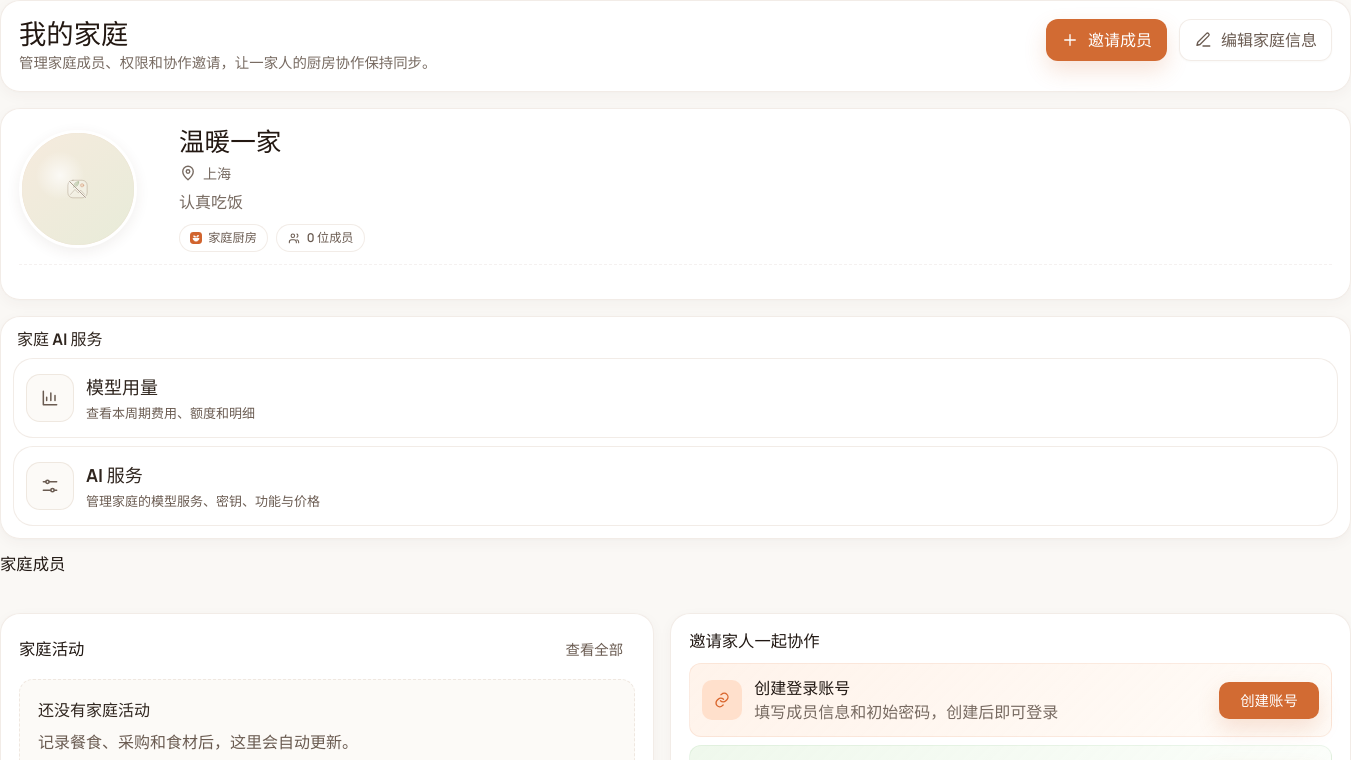
it: FamilySettings activity overlay control › opens activity overlay through controlled overlayMode on desktop
Click the button "查看全部" at (594, 650), box [554,632,635,668]
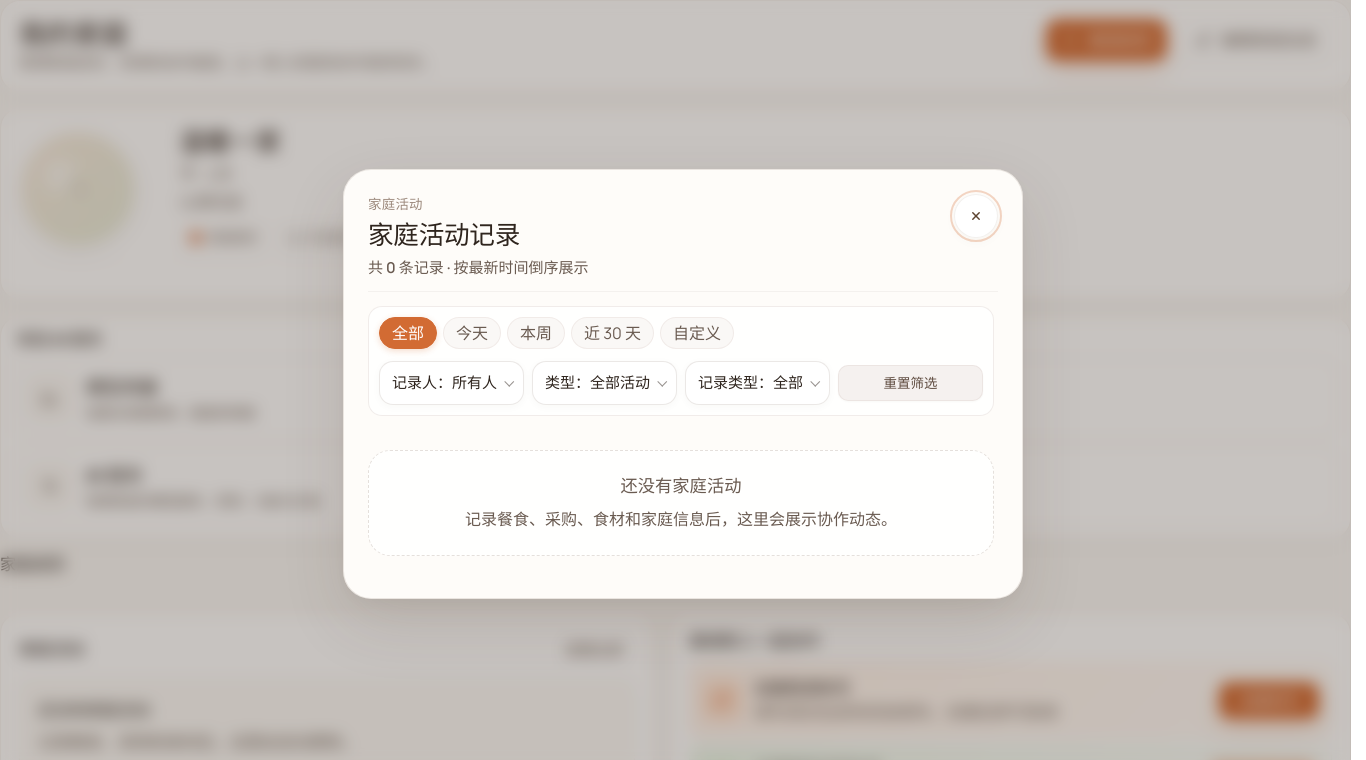
expect the number of dialogs with class "family-activity-viewer-modal" is 1: met, box [343,169,1023,599]
